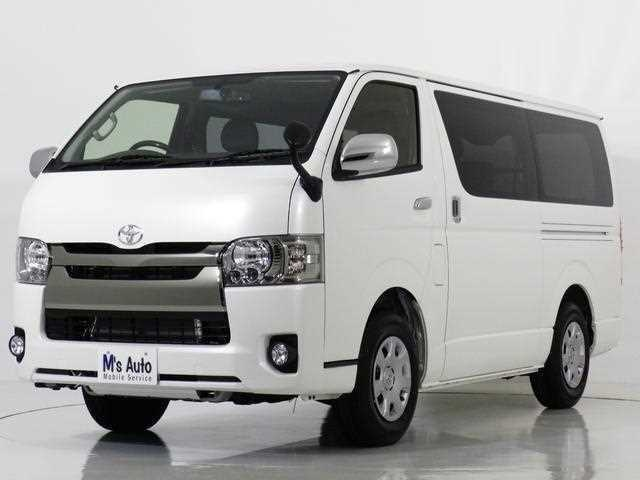van: (7, 60, 624, 448)
